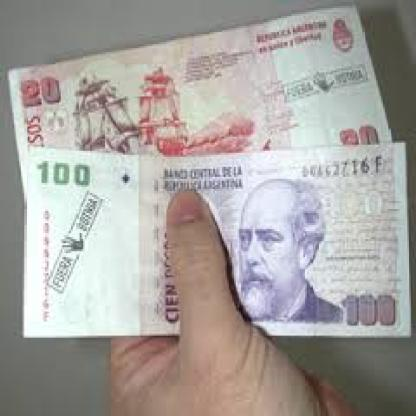billete: (5, 4, 392, 205), (21, 145, 411, 338)
